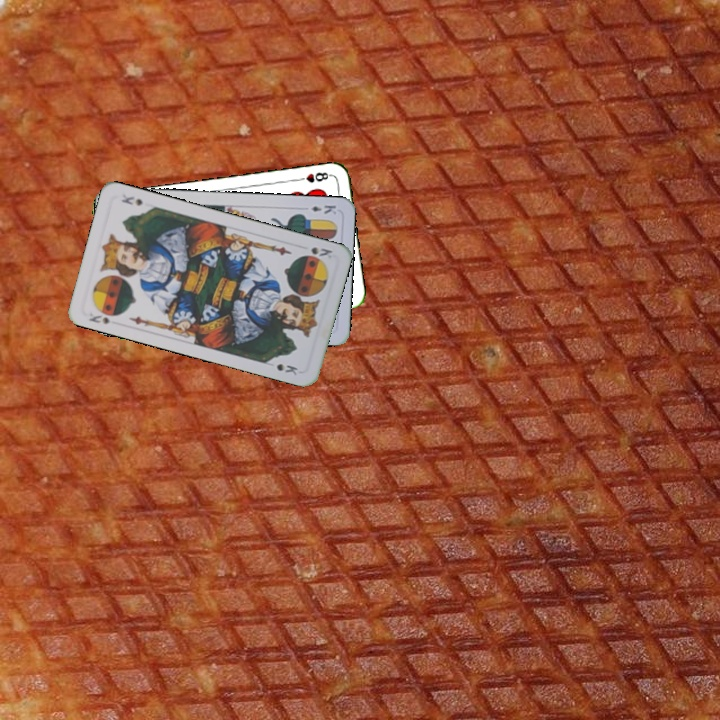EK: (307, 201, 339, 216)
H8: (293, 168, 333, 185)
SK: (85, 309, 122, 327), (307, 243, 335, 259)
